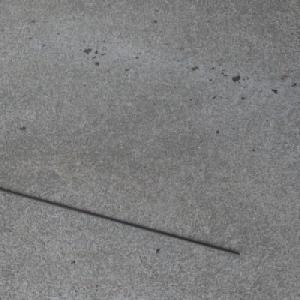LuggagePart: (0, 186, 241, 256)
